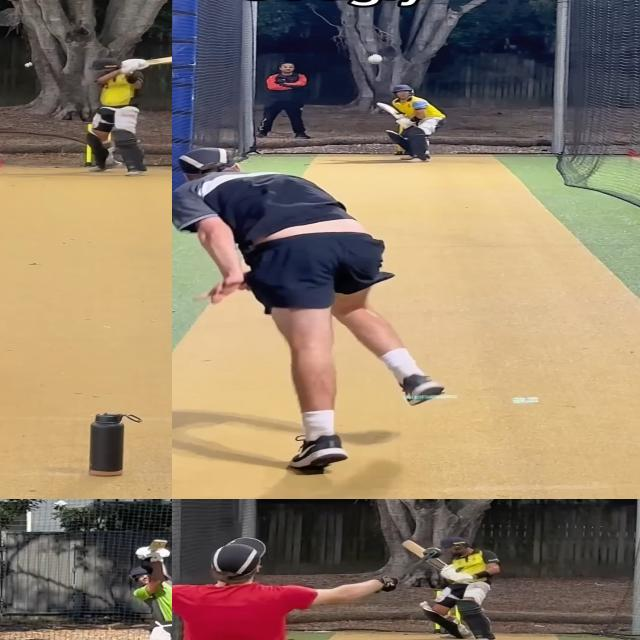Cricket ball: (367, 54, 383, 64), (418, 600, 430, 608), (23, 62, 35, 68)
